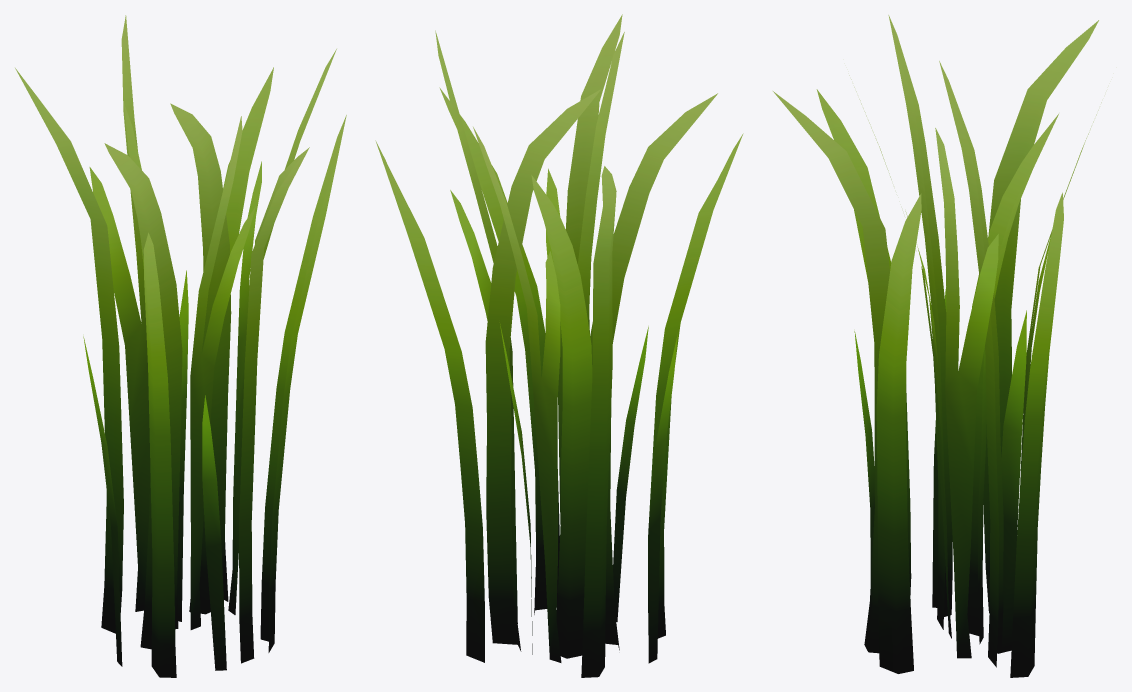
Rendered from Grass_Common_Tall.gltf.
The picture shows the model from 3 angles, left to right: view 1: azimuth 30°, elevation 25°; view 2: azimuth 150°, elevation 25°; view 3: azimuth 270°, elevation 25°; orthographic projection. The views are drawn at different scales.
Parts seen in each view (by area): view 1: Grass_Common_Tall; view 2: Grass_Common_Tall; view 3: Grass_Common_Tall.
Part boxes in pixels (x1=…): Grass_Common_Tall: x1=15, y1=15, x2=346, y2=677; Grass_Common_Tall: x1=375, y1=14, x2=743, y2=677; Grass_Common_Tall: x1=773, y1=15, x2=1101, y2=677.
Bounding box in the file's own units: 0.8951 × 1.87 × 0.9931.
1 material, 1 textured.
